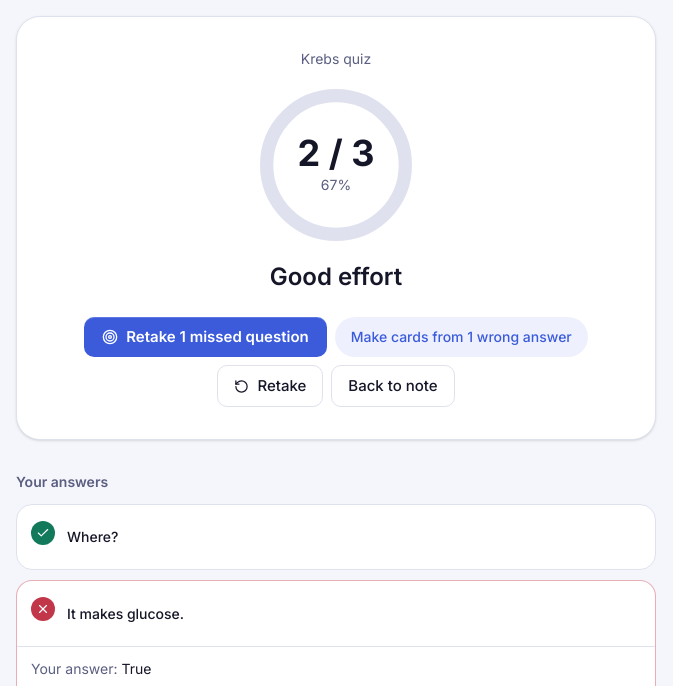
it: the quiz results › offers to retake just the missed ones, and says so while it starts
Click the button "Retake 1 missed question" at (205, 337), box [84,317,327,357]
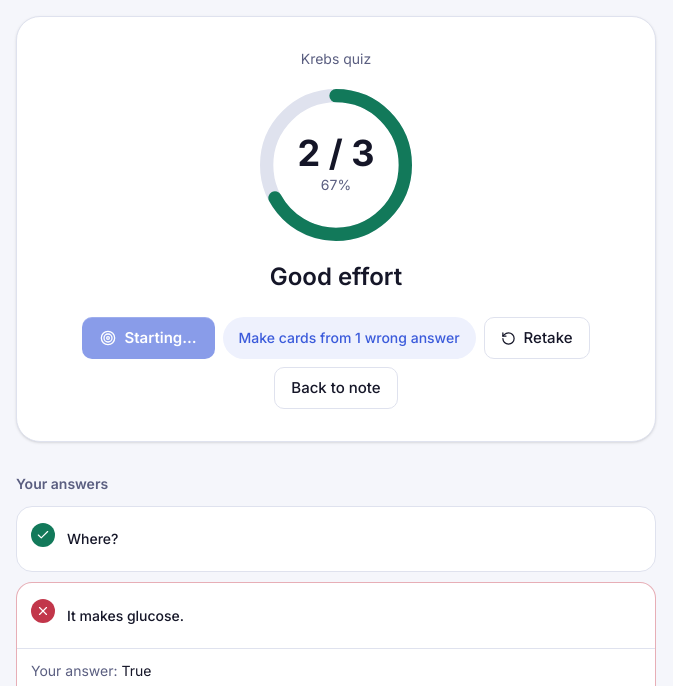
Expected: the button "Starting…" is shown, [82,317,215,359]
